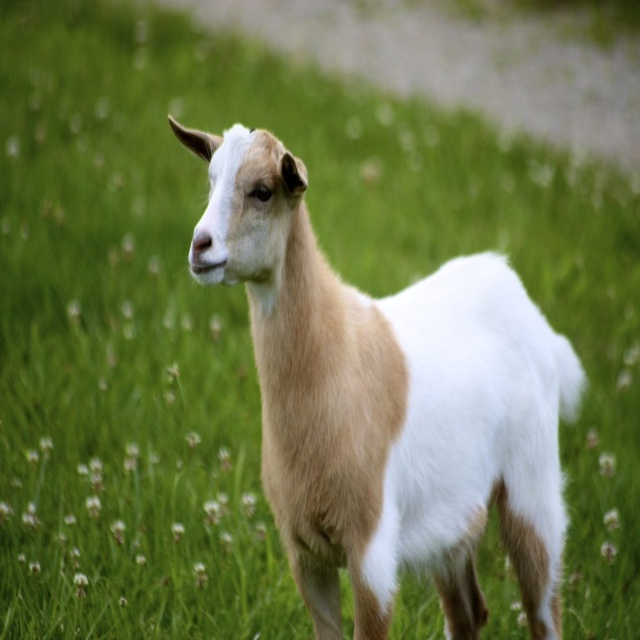Goat: (167, 115, 589, 638)
